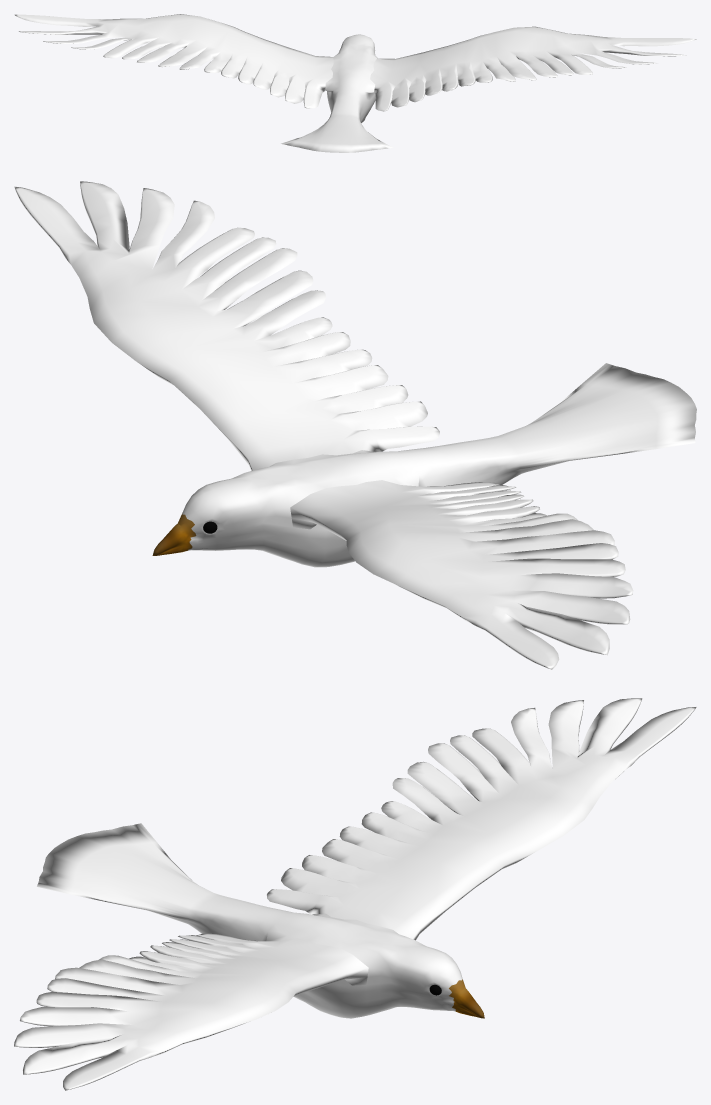
The model's file is dove4.obj.
3 renders of one model, top to bottom at view 1: azimuth 30°, elevation 25°; view 2: azimuth 150°, elevation 25°; view 3: azimuth 270°, elevation 25°, orthographic. The views are drawn at different scales.
Parts seen in each view (by area): view 1: dove_eye1; view 2: dove_eye1; view 3: dove_eye1.
Part boxes in pixels (x1,y1,x2,y2): dove_eye1: (14, 14, 696, 152); dove_eye1: (14, 181, 696, 669); dove_eye1: (14, 698, 696, 1090).
Size of the model in its own units: 0.6779 by 0.1034 by 0.4961.
2 materials, 1 textured.
